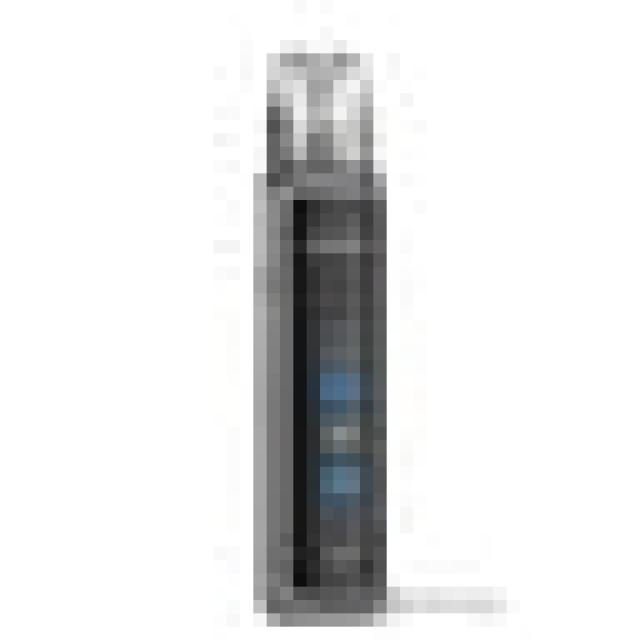Hazard: (240, 40, 387, 613)
